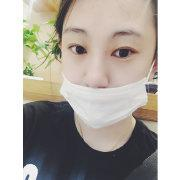WRONG: (61, 27, 150, 122)
